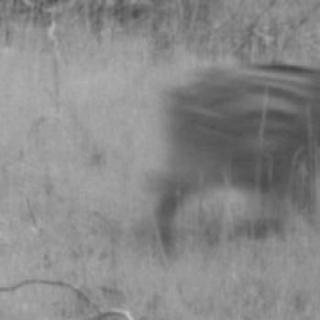Pig: (135, 39, 320, 246)
